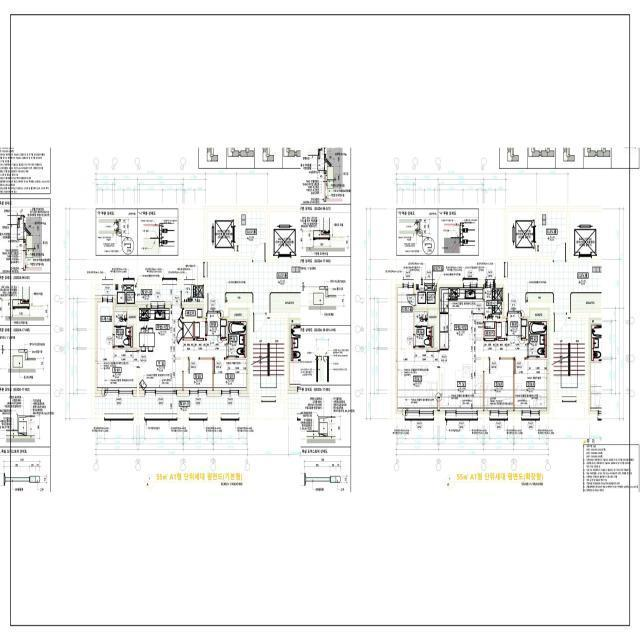space_balconi: (95, 395, 250, 414), (95, 285, 204, 305), (484, 288, 503, 318)
space_bedroom: (395, 349, 437, 411), (514, 359, 550, 411), (95, 349, 139, 390), (484, 359, 513, 411), (214, 359, 250, 390), (184, 360, 213, 390)
space_dressroom: (395, 288, 415, 350), (95, 302, 113, 349)
space_elevator: (269, 211, 301, 257), (570, 211, 601, 257), (207, 211, 235, 257), (508, 211, 535, 257)
space_elevator_hall: (207, 262, 301, 313), (508, 262, 602, 313), (238, 211, 266, 262), (539, 211, 566, 262)
space_front: (195, 314, 227, 341), (507, 317, 527, 341)
space_kitchen: (440, 287, 483, 341), (139, 308, 194, 341)
space_living_room: (440, 341, 527, 411), (139, 341, 227, 390)
space_other: (428, 308, 440, 348), (128, 310, 139, 348), (183, 305, 204, 318), (226, 293, 253, 303), (526, 293, 553, 303), (528, 308, 550, 320), (228, 310, 247, 320), (484, 322, 495, 338), (496, 322, 506, 338)
space_outdoor_room: (415, 285, 437, 306)
space_staircase: (554, 318, 585, 397), (253, 318, 284, 397)
space_toilet: (528, 321, 547, 358), (114, 311, 133, 348), (415, 311, 433, 348), (228, 321, 246, 358)
